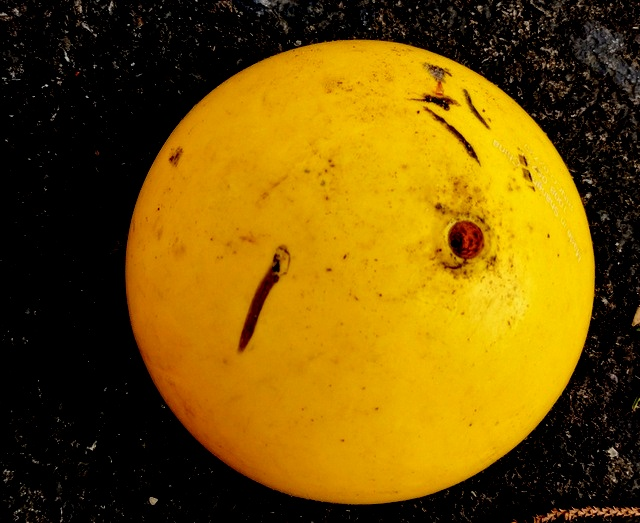ball: (126, 40, 591, 507)
